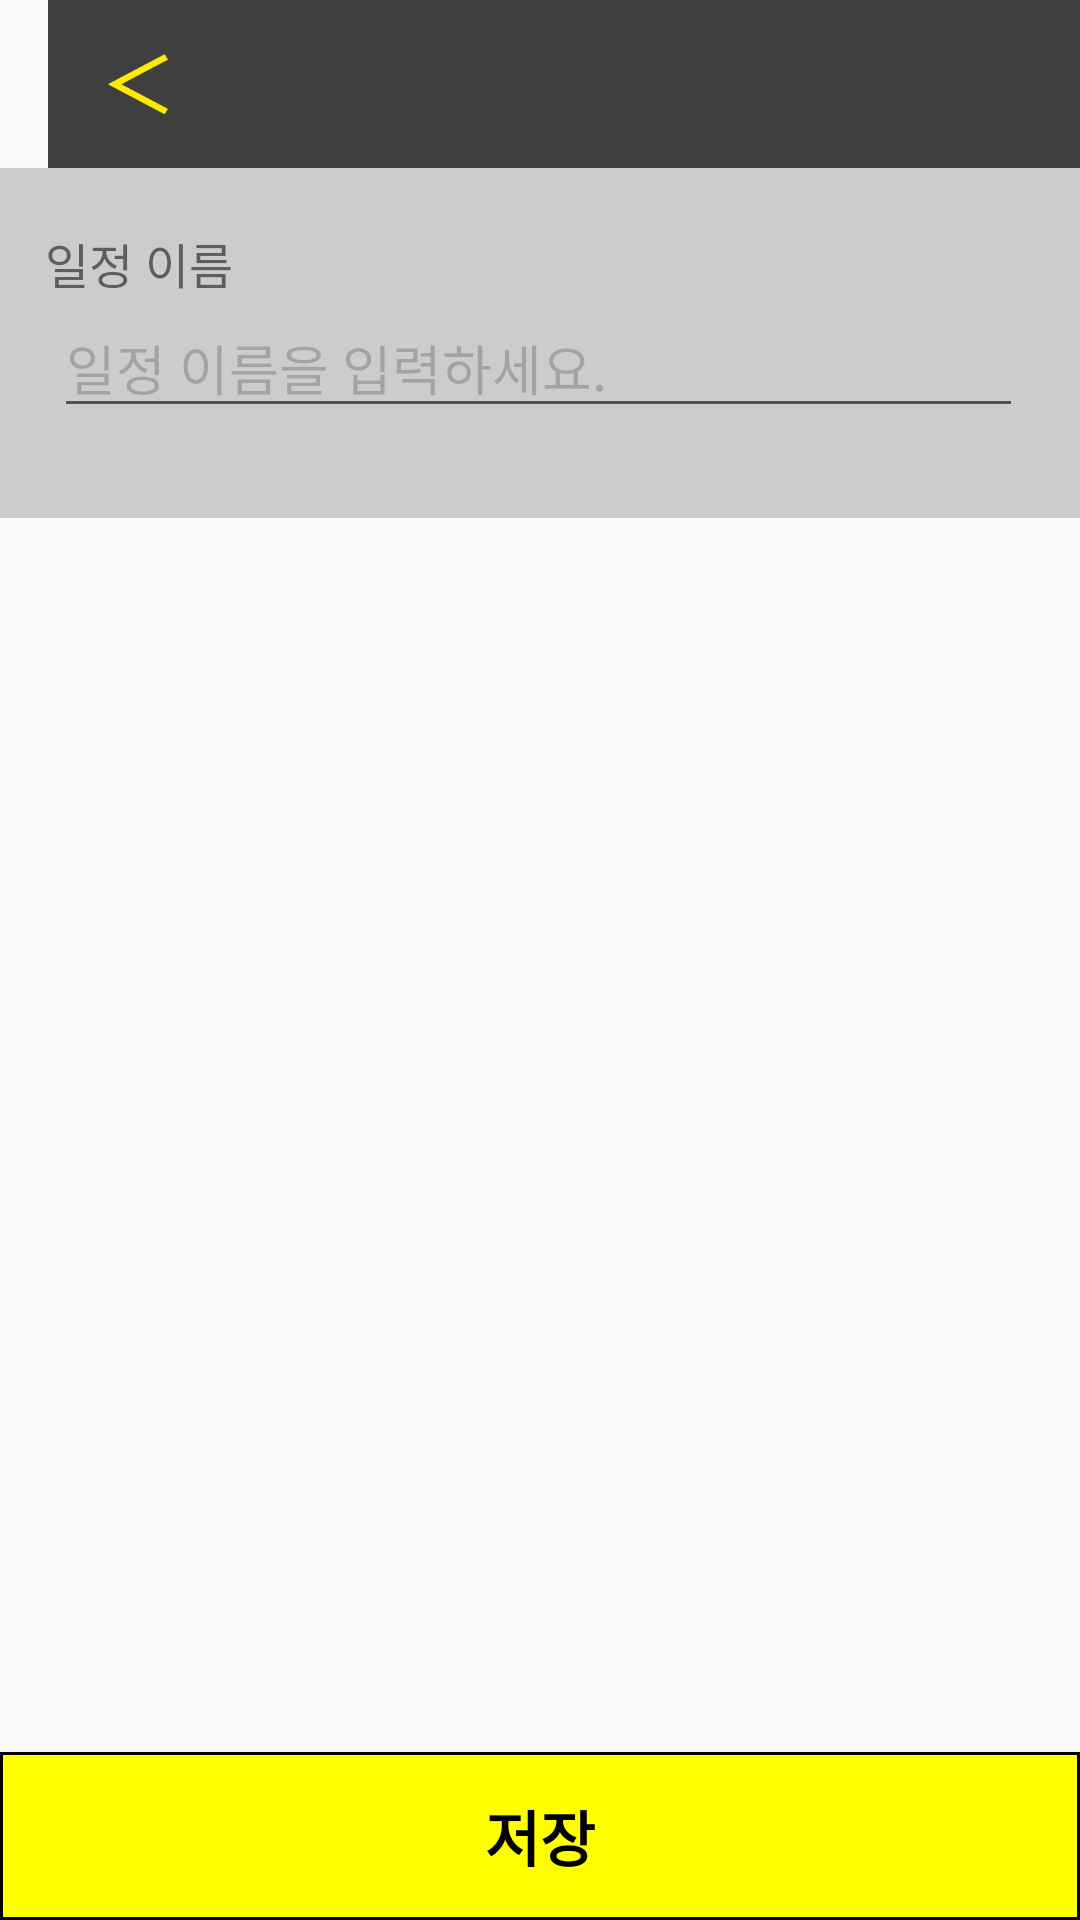

Locate icon controls on the screen. Image size 1080w x 1920h, boxes as bbox=(x1, y1, x2, y2).
back: bbox=(108, 54, 168, 114)
